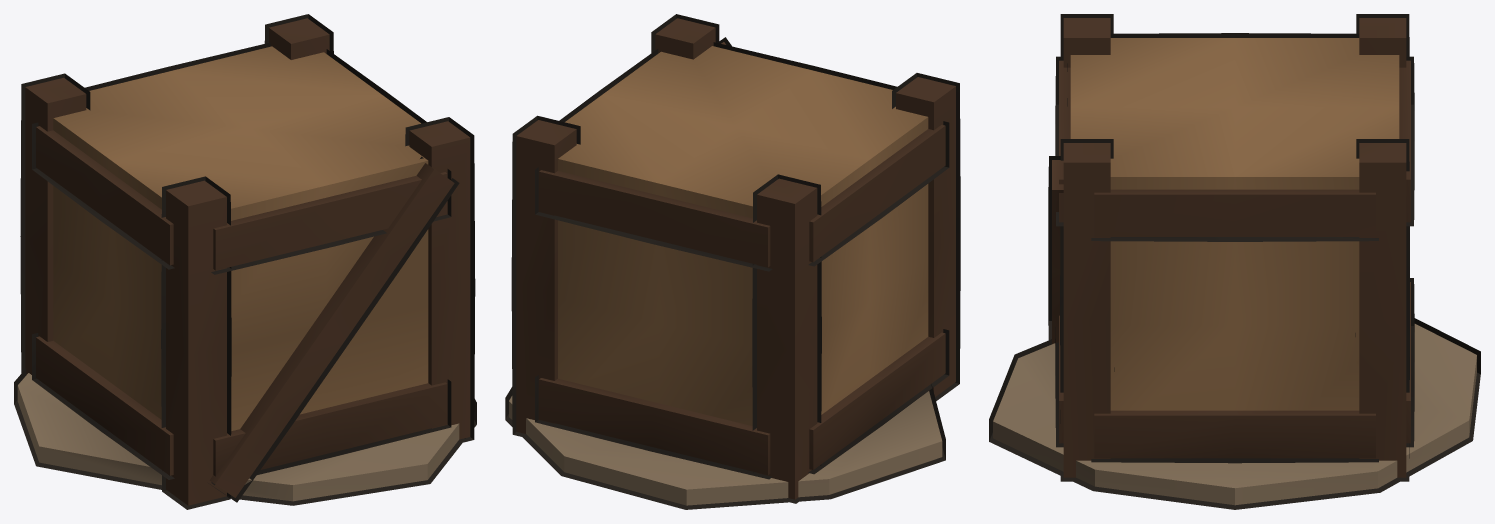
File: caisse_grande.glb
3 renders of one model, left to right at view 1: azimuth 30°, elevation 25°; view 2: azimuth 150°, elevation 25°; view 3: azimuth 270°, elevation 25°, orthographic. The views are drawn at different scales.
Visible parts, largest first — view 1: caisse_grande, caisse_grande_outline; view 2: caisse_grande, caisse_grande_outline; view 3: caisse_grande, caisse_grande_outline.
Boxes of the visible parts, x1,y1,x2,y2 form: caisse_grande: (17, 18, 470, 505); caisse_grande_outline: (14, 14, 476, 509); caisse_grande: (509, 18, 955, 505); caisse_grande_outline: (505, 14, 960, 509); caisse_grande: (993, 18, 1476, 505); caisse_grande_outline: (989, 14, 1480, 509).
Size of the model in its own units: 1.34 by 0.9545 by 1.32.
